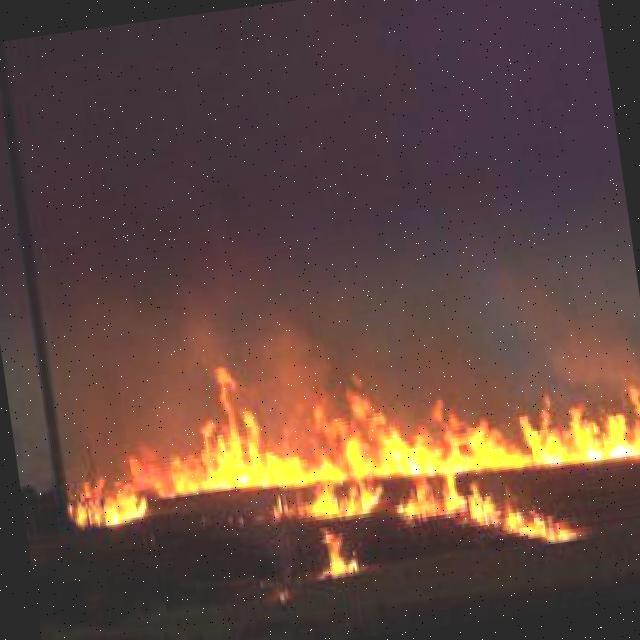Fire: (57, 297, 640, 630)
